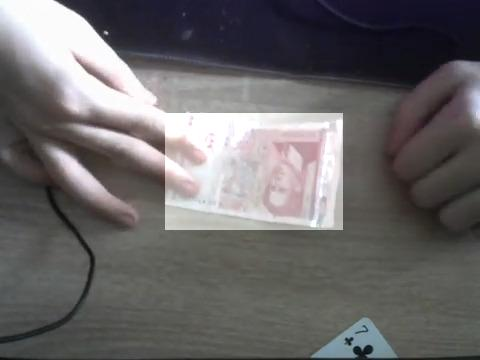5leva: (165, 113, 343, 230)
